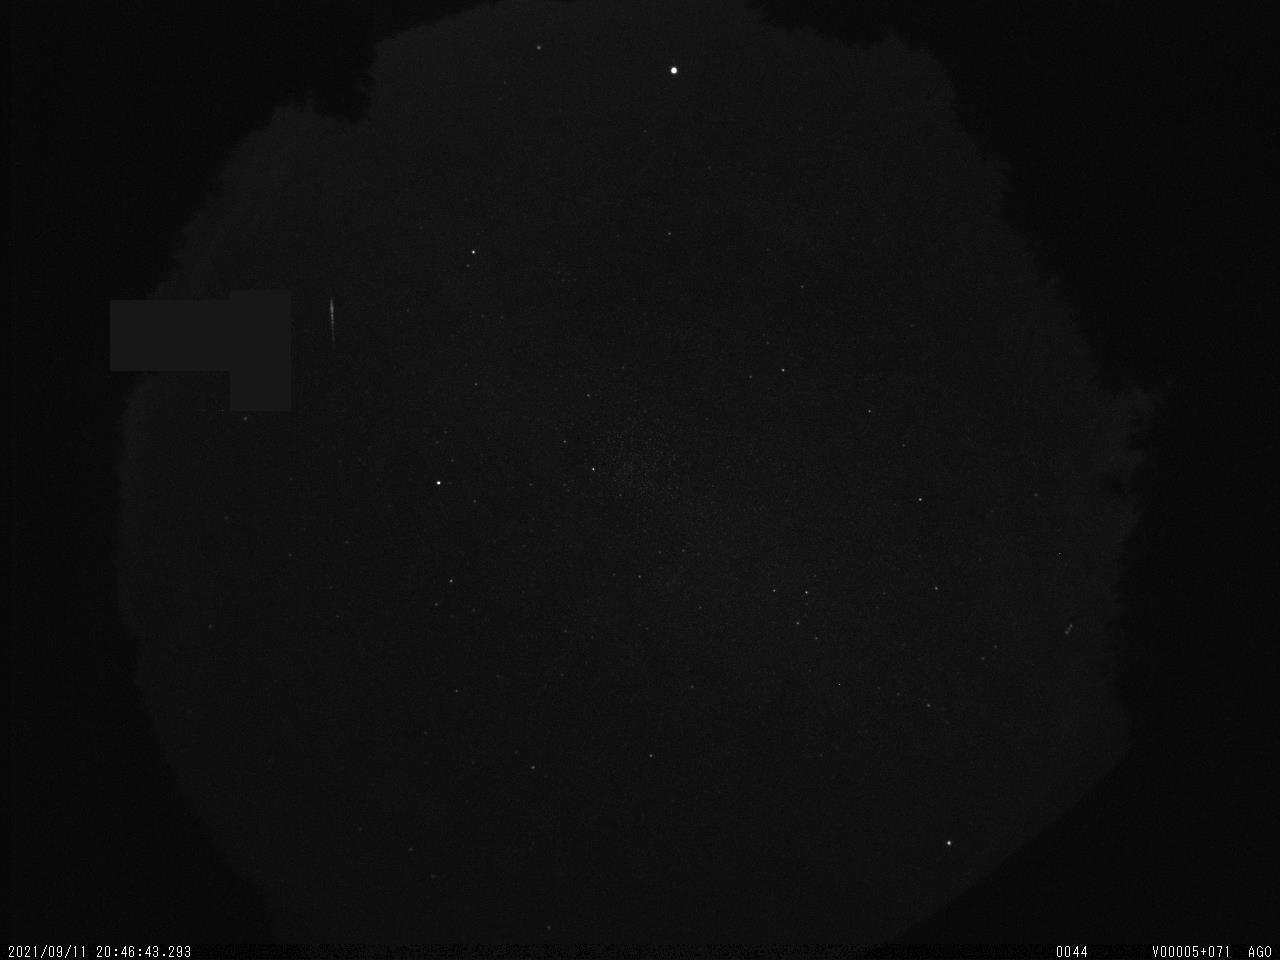meteor: (309, 294, 352, 356)
